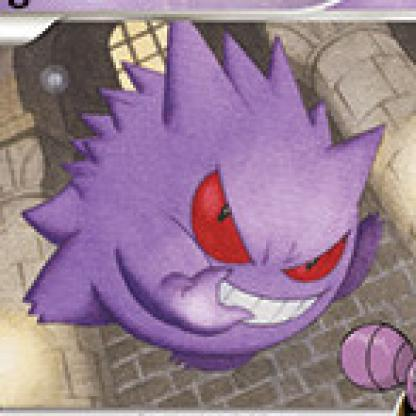Gengar: (1, 31, 401, 382)
